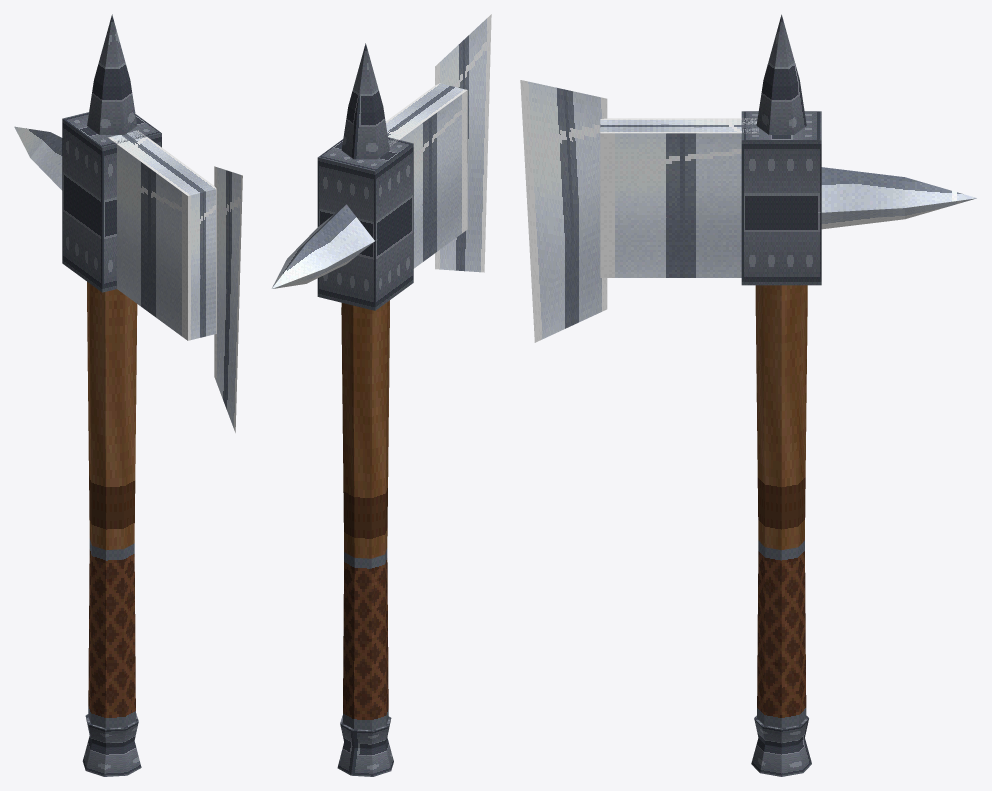
The model's file is machado_de_prata.glb.
The picture shows the model from 3 angles, left to right: view 1: azimuth 30°, elevation 25°; view 2: azimuth 150°, elevation 25°; view 3: azimuth 270°, elevation 25°; orthographic projection. The views are drawn at different scales.
Visible parts, largest first — view 1: machado_de_prata; view 2: machado_de_prata; view 3: machado_de_prata.
Part boxes in pixels (x1,y1,x2,y2): machado_de_prata: [14, 14, 242, 776]; machado_de_prata: [271, 14, 491, 776]; machado_de_prata: [520, 14, 976, 776].
Bounding box in the file's own units: 0.096 × 1.14 × 0.63.
1 material, 1 textured.
